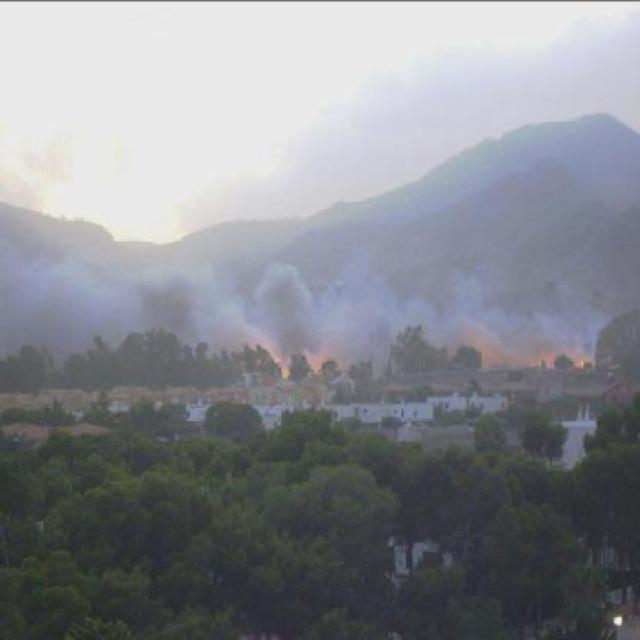Fire: (570, 356, 590, 369), (278, 362, 292, 378)
